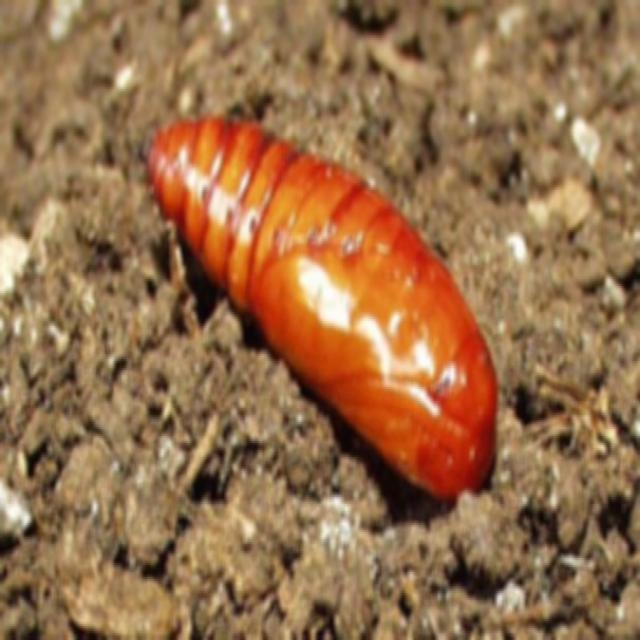black cutworm: (140, 109, 510, 500)
